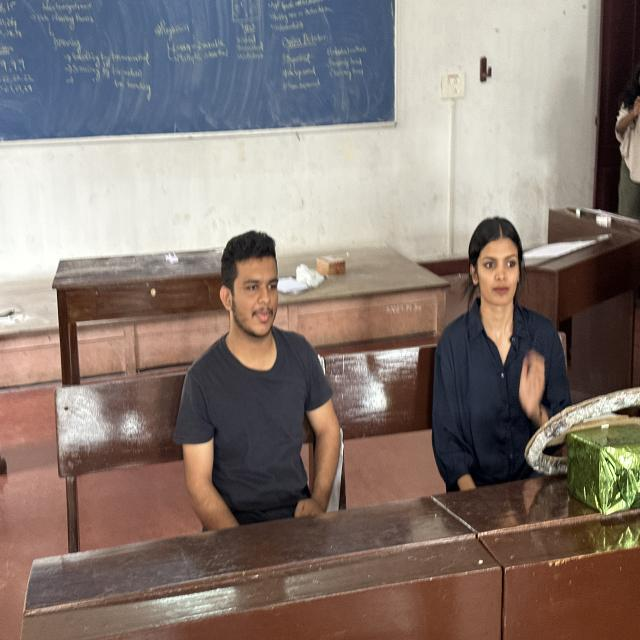no-seatbelt: (172, 332, 357, 532), (426, 307, 582, 499)
